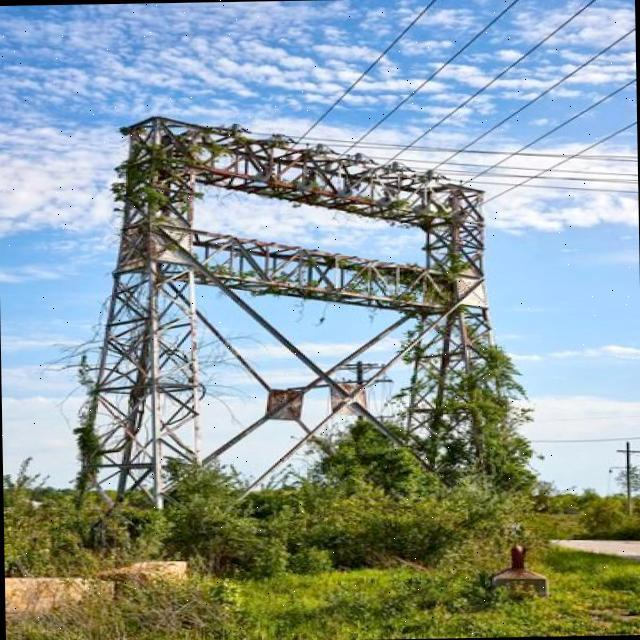critical vegetation: (401, 324, 540, 474), (122, 114, 206, 228)
